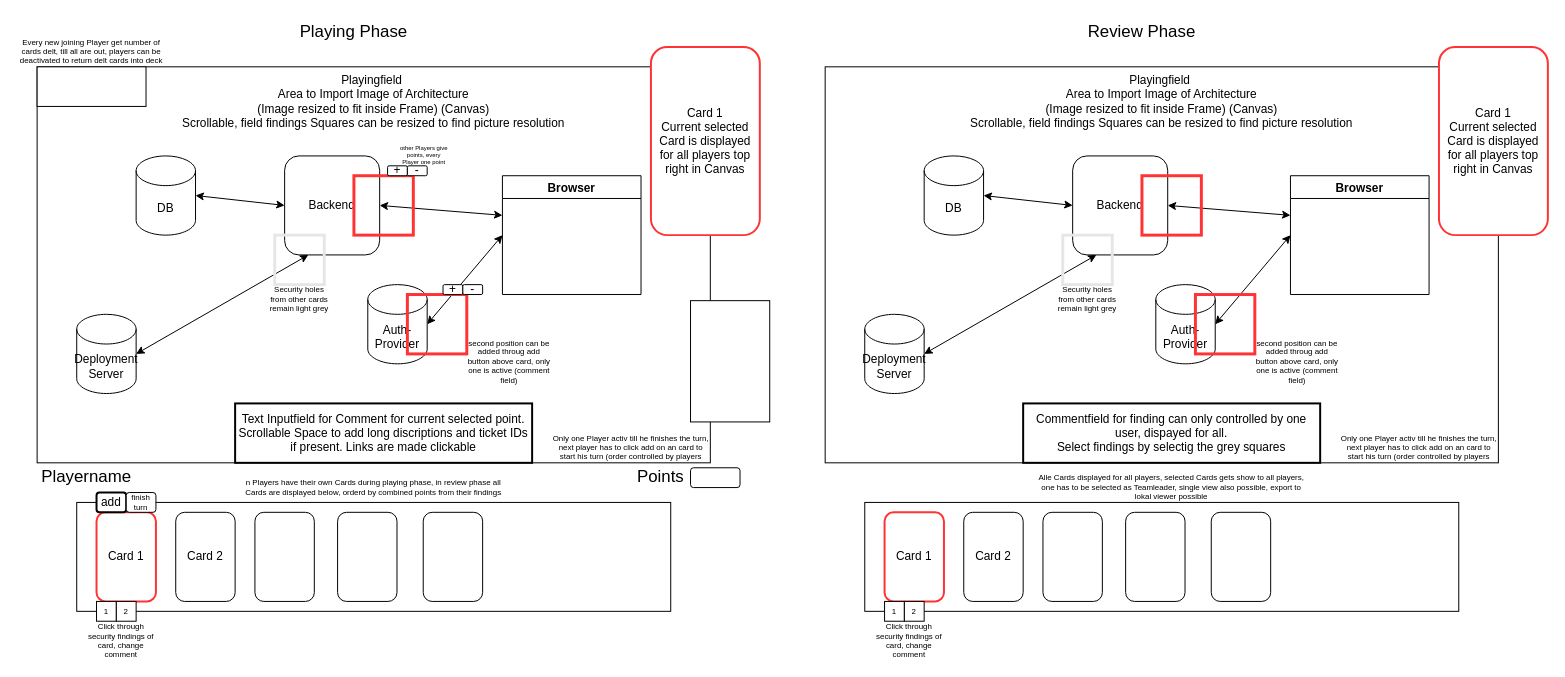
The diagram is 1565 pixels wide and 677 high, and some of its shapes have lost their labels. The box of each missing label's shape, as (x1, y1, x2, y2) in pixels:
Scoreboard, hidable: (690, 300, 770, 422)
Set Max Cards per Player Set Game Phase: (36, 66, 146, 106)
show scoreboard: (690, 467, 740, 488)
